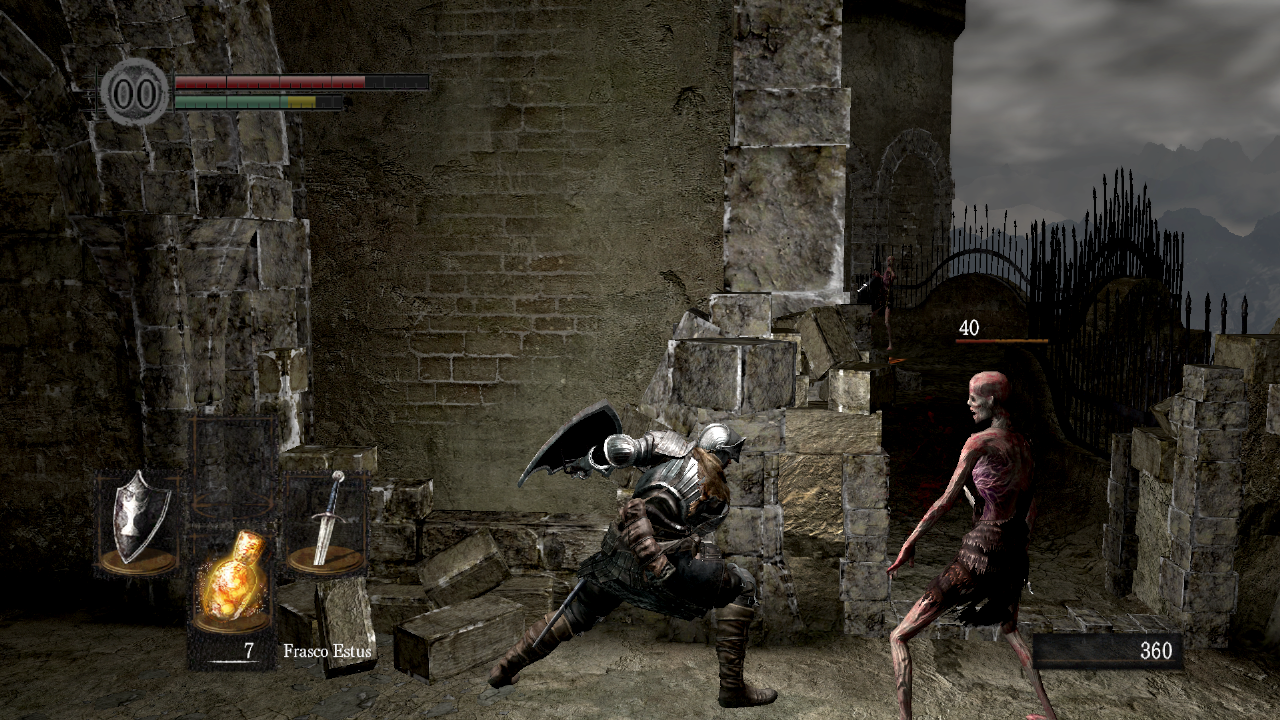hollow: (886, 371, 1059, 720), (874, 256, 895, 350)
player: (488, 401, 779, 707)
